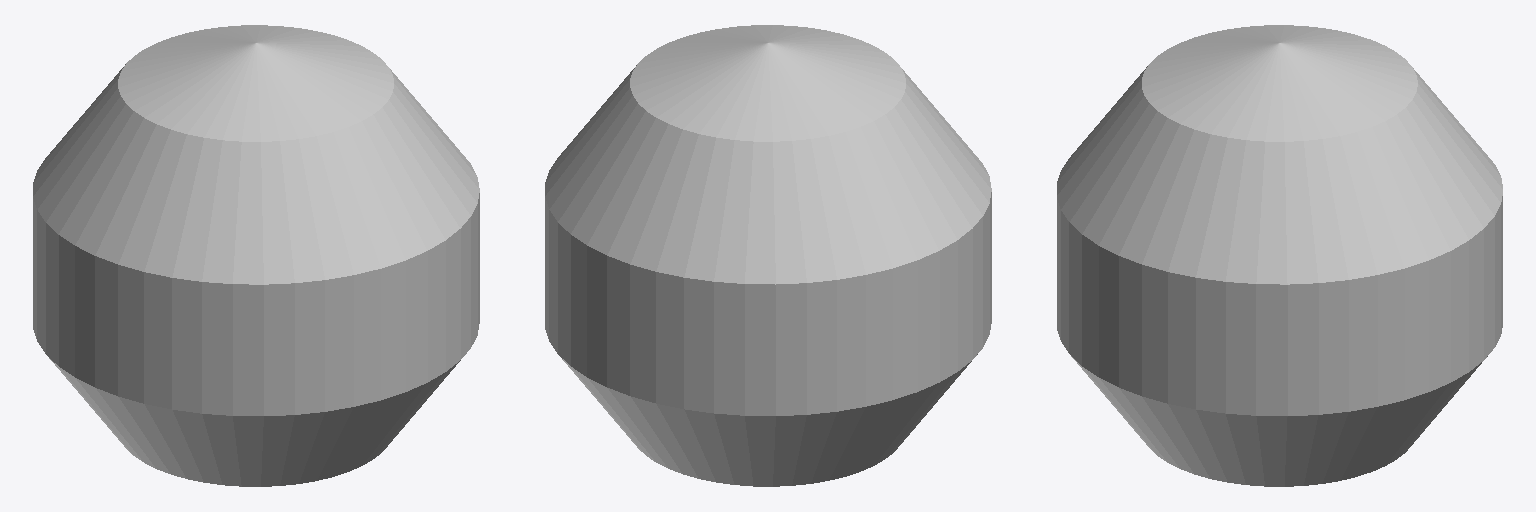
The model's file is domo5.obj.
3 renders of one model, left to right at view 1: azimuth 30°, elevation 25°; view 2: azimuth 150°, elevation 25°; view 3: azimuth 270°, elevation 25°, orthographic.
Parts seen in each view (by area): view 1: lamp-1_Sphere.011; view 2: lamp-1_Sphere.011; view 3: lamp-1_Sphere.011.
Part boxes in pixels (left/top/right/bottom): lamp-1_Sphere.011: left=33, top=25, right=479, bottom=486; lamp-1_Sphere.011: left=545, top=25, right=991, bottom=486; lamp-1_Sphere.011: left=1057, top=25, right=1502, bottom=486.
Bounding box in the file's own units: 2.85 × 3 × 2.85.